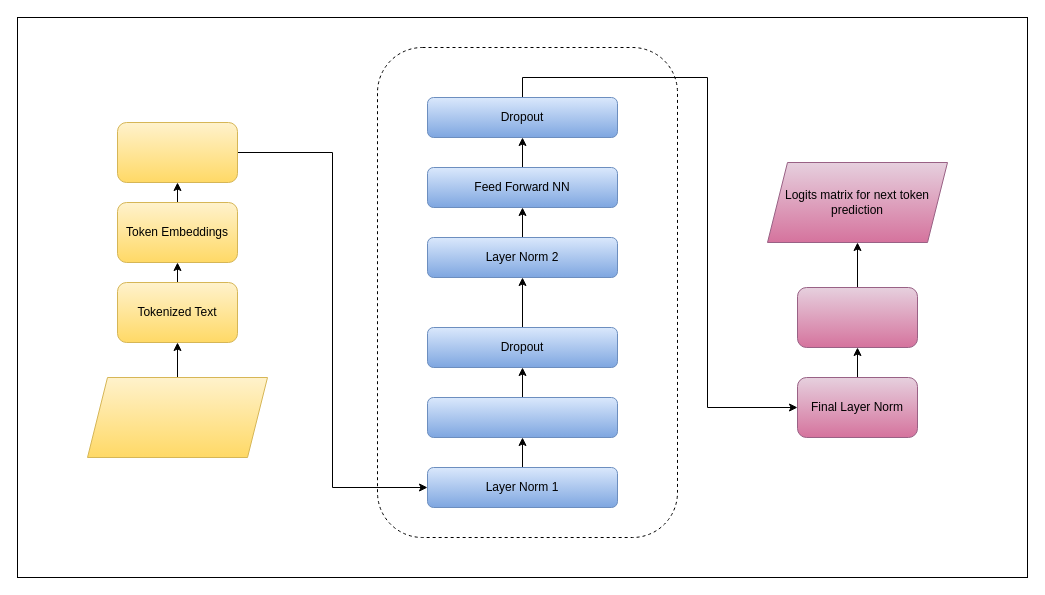
Image size: 1045x595. Some labels were removed from this diagram. Here are the shapes that lost their labels. From the top down, the centre of each, then its label:
At pixel 177 152: "Positional Embeddings".
At pixel 857 317: "Output Layer".
At pixel 177 417: "Input text for LLM".
At pixel 522 417: "Multi-head Attention".
